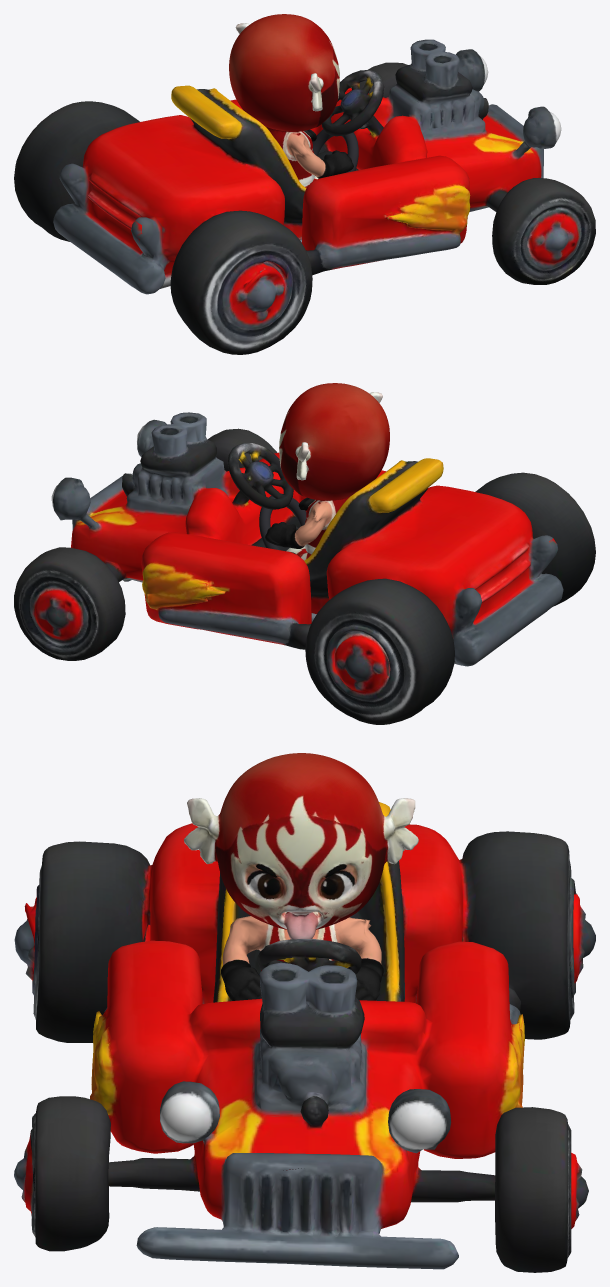
Rendered from kart-picante.glb.
3 views of the same model, one above another, from view 1: azimuth 30°, elevation 25°; view 2: azimuth 150°, elevation 25°; view 3: azimuth 270°, elevation 25° (orthographic). The views are drawn at different scales.
Visible parts, largest first — view 1: body, pilot; view 2: body, pilot; view 3: body, pilot.
Part boxes in pixels (x1,y1,x2,y2): body: [14, 39, 595, 354]; pilot: [229, 14, 353, 187]; body: [14, 412, 595, 724]; pilot: [265, 383, 389, 560]; body: [14, 802, 595, 1272]; pilot: [184, 753, 418, 1000].
Size of the model in its own units: 1.95 by 1.07 by 1.53.
Materials: 3 (2 with a texture image).
